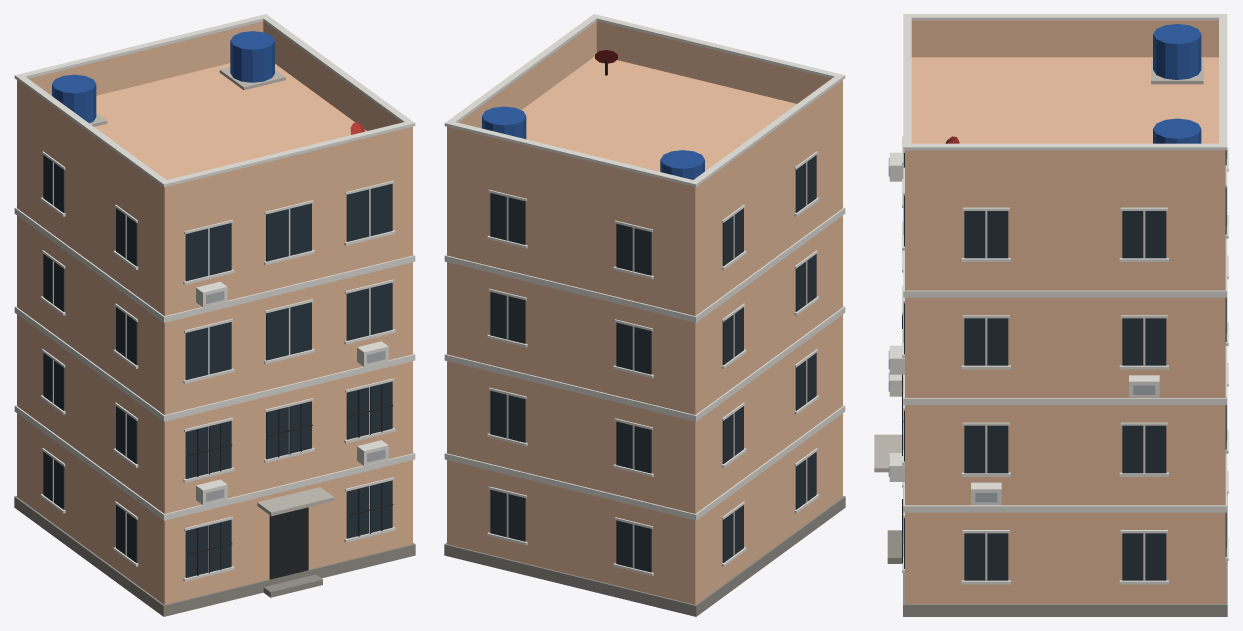
File: BAY_F_Tower_H.glb
3 views of the same model, side by side, from view 1: azimuth 30°, elevation 25°; view 2: azimuth 150°, elevation 25°; view 3: azimuth 270°, elevation 25° (orthographic). The views are drawn at different scales.
Visible parts, largest first — view 1: BAY_F_Tower_H; view 2: BAY_F_Tower_H; view 3: BAY_F_Tower_H.
Boxes of the visible parts, left/top/right/bottom form: BAY_F_Tower_H: left=14, top=14, right=415, bottom=616; BAY_F_Tower_H: left=444, top=14, right=845, bottom=616; BAY_F_Tower_H: left=874, top=14, right=1228, bottom=616.
Bounding box in the file's own units: 7.54 × 11.8 × 8.07.
1 material, 1 textured.
